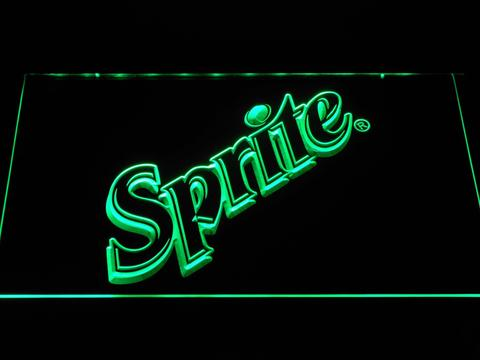sprite: (109, 90, 350, 272)
